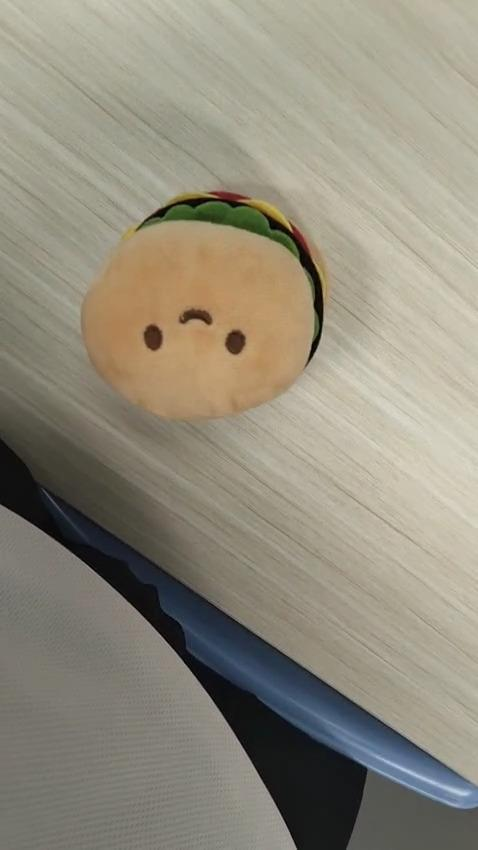hamburger: (83, 181, 330, 429)
